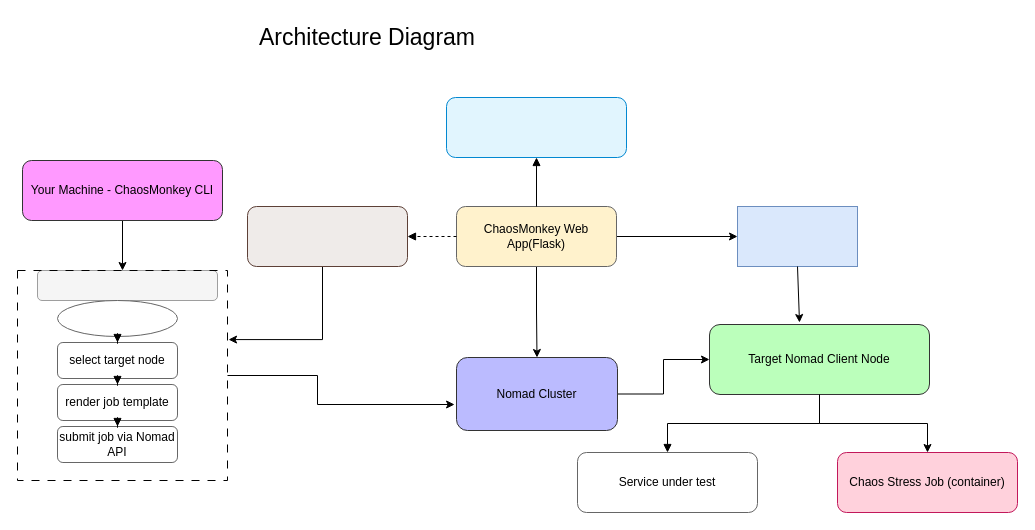
The diagram is 1035 pixels wide and 530 high, and some of its shapes have lost their labels. The shapes that lost their labels are listed below. From the top down, each one's box as (x1, y1, x2, y2) in pixels, then its label:
(446, 96, 626, 158): Redis (cache & sessions)
(246, 206, 408, 266): chaosmonkey CLI (subprocess)
(736, 206, 858, 266): Dora API
(36, 270, 218, 300): ChaosMonkey CLI (steps)
(56, 300, 178, 336): discover()
